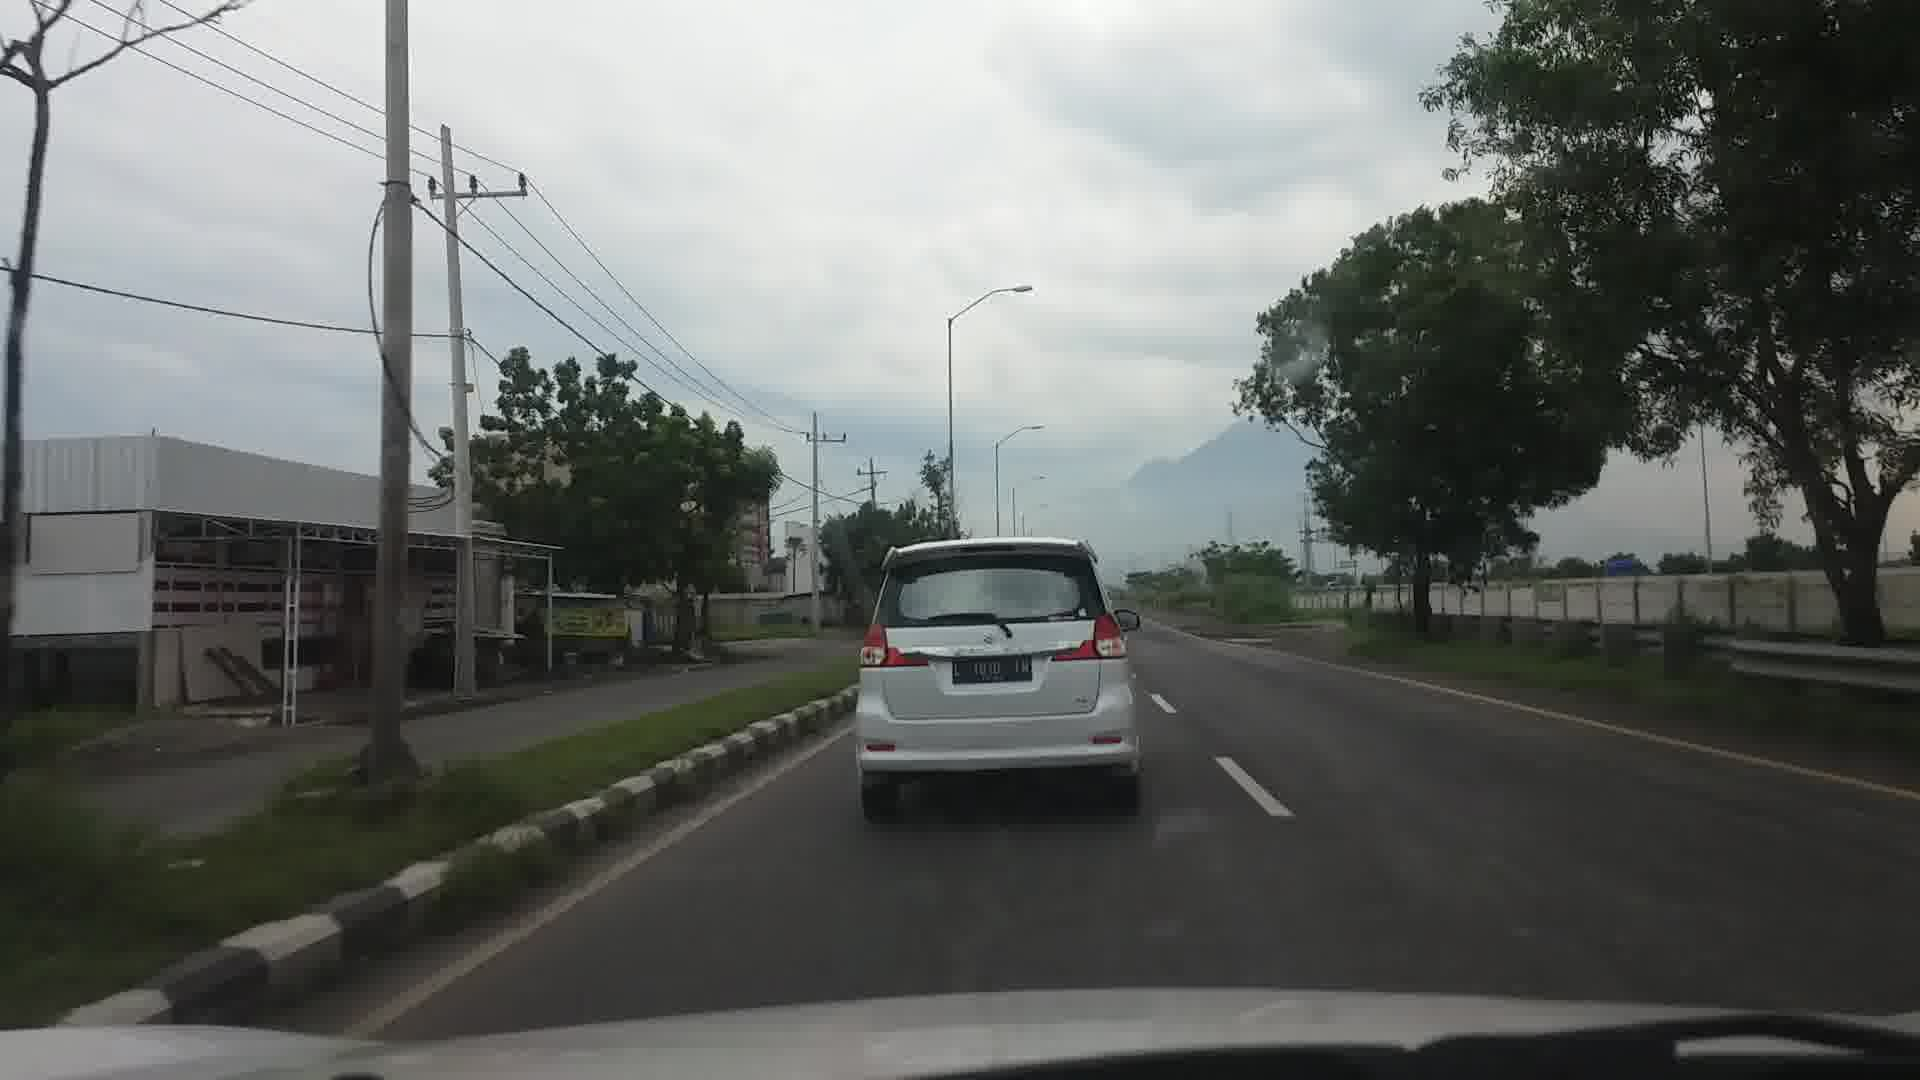plate_positive: (953, 657, 1033, 682)
